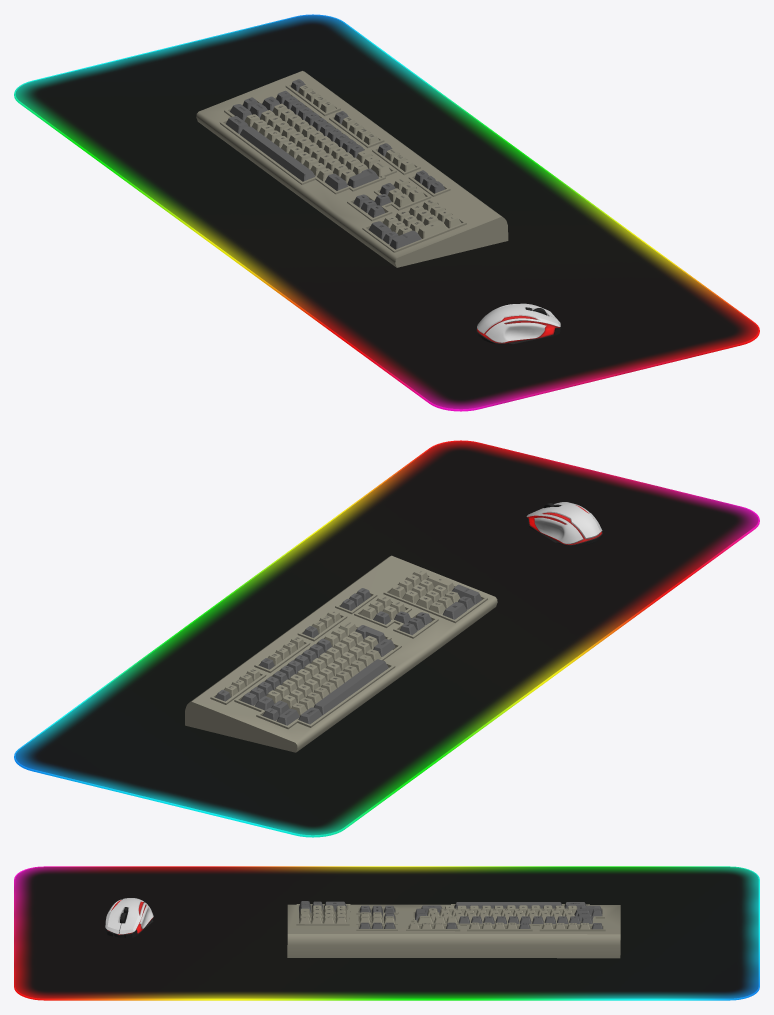
File: gaming_mouse_keyboard__rgb_pad_-_3d_model.glb
3 views of the same model, one above another, from view 1: azimuth 30°, elevation 25°; view 2: azimuth 150°, elevation 25°; view 3: azimuth 270°, elevation 25° (orthographic). The views are drawn at different scales.
Parts seen in each view (by area): view 1: Mouse_pad_d__2_, keyboard_b_1__2_, Mouse_c_2__2_; view 2: Mouse_pad_d__2_, keyboard_b_1__2_, Mouse_c_2__2_; view 3: Mouse_pad_d__2_, keyboard_b_1__2_, Mouse_c_2__2_.
Part boxes in pixels (x1,y1,x2,y2): Mouse_pad_d__2_: (14,14,759,411); keyboard_b_1__2_: (196,71,508,267); Mouse_c_2__2_: (476,303,560,344); Mouse_pad_d__2_: (14,440,759,837); keyboard_b_1__2_: (185,555,497,752); Mouse_c_2__2_: (526,502,602,546); Mouse_pad_d__2_: (14,866,759,1000); keyboard_b_1__2_: (287,901,620,958); Mouse_c_2__2_: (105,898,153,937).
Bounding box in the file's own units: 0.515 × 0.0471 × 1.22.
Materials: 3 (3 with a texture image).
